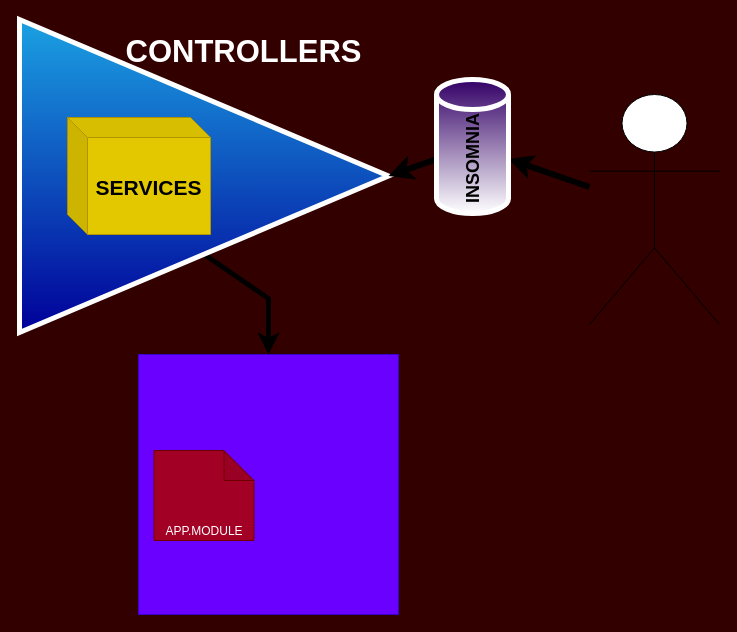
This 737x632 diagram has some shape labels left out. Here are the shapes that lost their labels. From the top down, the box of each, then its label:
(588, 94, 720, 324): USER
(138, 354, 398, 614): COURSES
